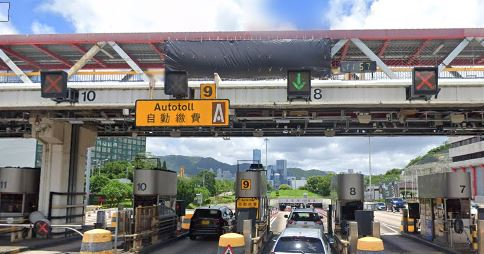Autotoll: (130, 98, 230, 130)
